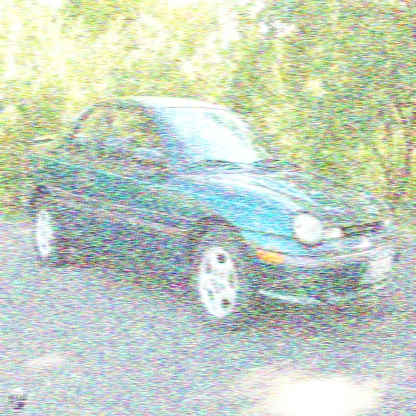Vehicle: (20, 94, 402, 337)
